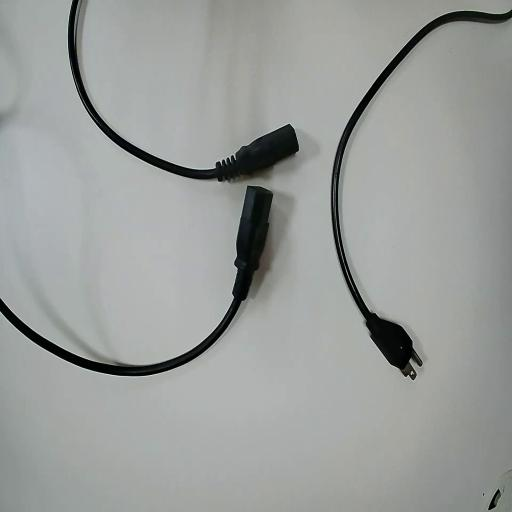wire: (333, 11, 511, 374), (0, 187, 271, 374), (69, 0, 297, 180)
